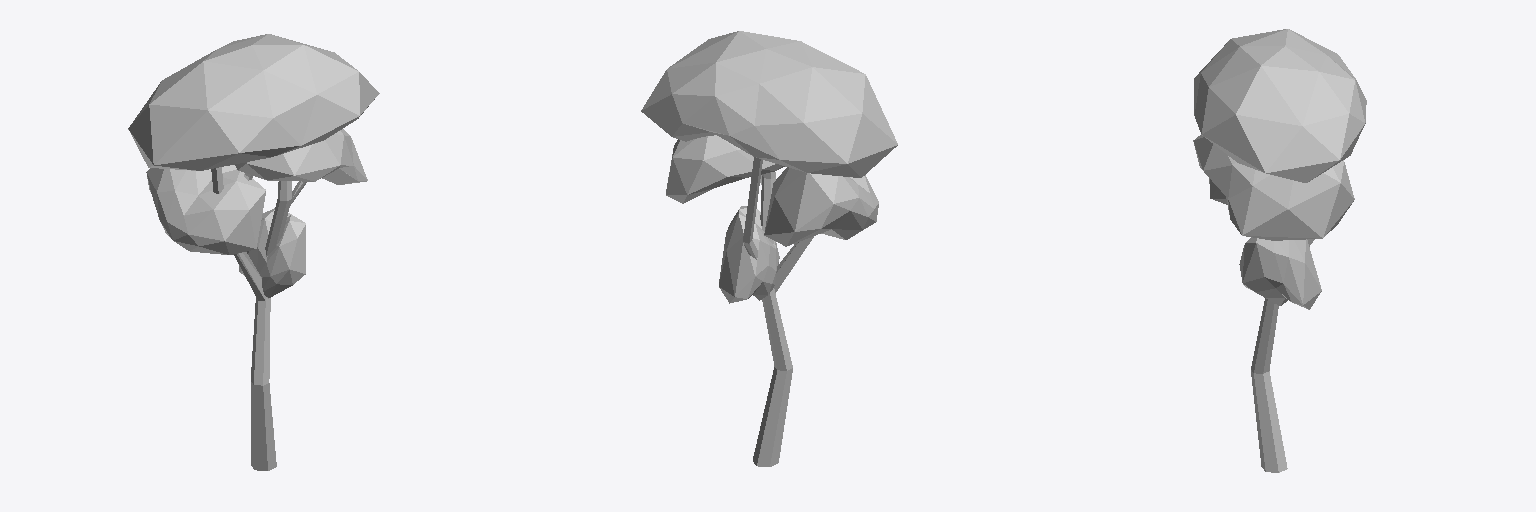
Rendered from tree2.obj.
3 views of the same model, side by side, from view 1: azimuth 30°, elevation 25°; view 2: azimuth 150°, elevation 25°; view 3: azimuth 270°, elevation 25° (orthographic).
Parts seen in each view (by area): view 1: Tree_Type3_04_Circle.335; view 2: Tree_Type3_04_Circle.335; view 3: Tree_Type3_04_Circle.335.
Part boxes in pixels (left/top/right/bottom): Tree_Type3_04_Circle.335: left=128, top=34, right=379, bottom=470; Tree_Type3_04_Circle.335: left=641, top=31, right=897, bottom=466; Tree_Type3_04_Circle.335: left=1193, top=29, right=1366, bottom=472.
Bounding box in the file's own units: 3.47 × 5.96 × 2.24.